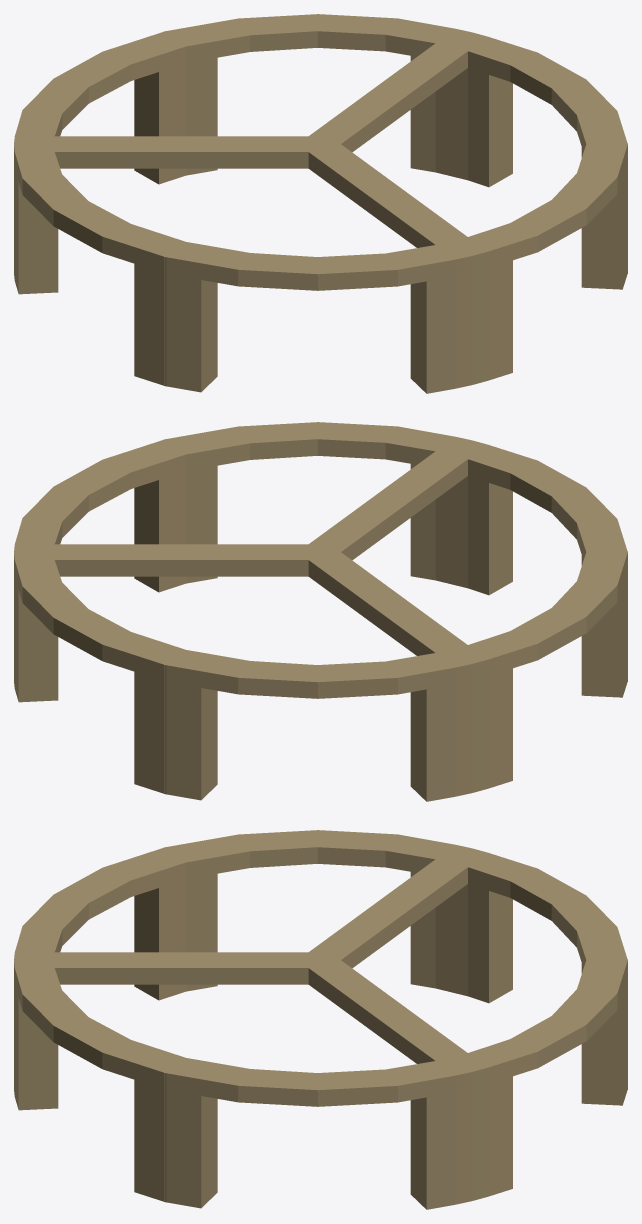
File: temple_export.fbx
3 renders of one model, top to bottom at view 1: azimuth 30°, elevation 25°; view 2: azimuth 150°, elevation 25°; view 3: azimuth 270°, elevation 25°, orthographic.
Visible parts, largest first — view 1: temple; view 2: temple; view 3: temple.
Part boxes in pixels (<box>): temple: <box>14,14,627,393</box>; temple: <box>14,422,627,801</box>; temple: <box>14,830,627,1209</box>.
Size of the model in its own units: 2308 by 534 by 2302.
